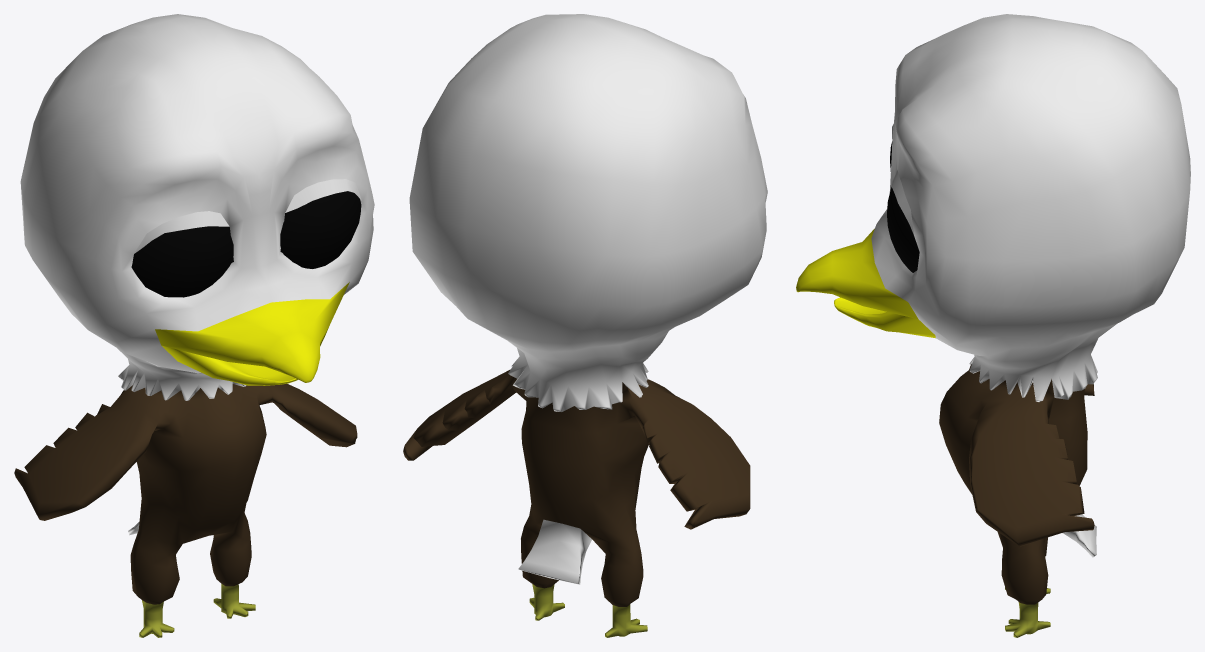
3 views of the same model, side by side, from view 1: azimuth 30°, elevation 25°; view 2: azimuth 150°, elevation 25°; view 3: azimuth 270°, elevation 25° (orthographic). The views are drawn at different scales.
Parts seen in each view (by area): view 1: polySurface2, polySurface3, BaseRig:EyeMesh_R, BaseRig:EyeMesh_L, polySurface4; view 2: polySurface2; view 3: polySurface2, polySurface3, polySurface4, BaseRig:EyeMesh_L.
Boxes of the visible parts, x1,y1,x2,y2 form: polySurface2: (14,14,374,637); polySurface3: (155,282,349,382); BaseRig:EyeMesh_R: (131,226,233,297); BaseRig:EyeMesh_L: (280,191,361,268); polySurface4: (162,345,298,385); polySurface2: (403,14,767,637); polySurface2: (871,14,1190,637); polySurface3: (796,229,918,319); polySurface4: (834,297,935,338); BaseRig:EyeMesh_L: (887,187,919,272).
Size of the model in its own units: 4.45 by 7.84 by 4.8.
